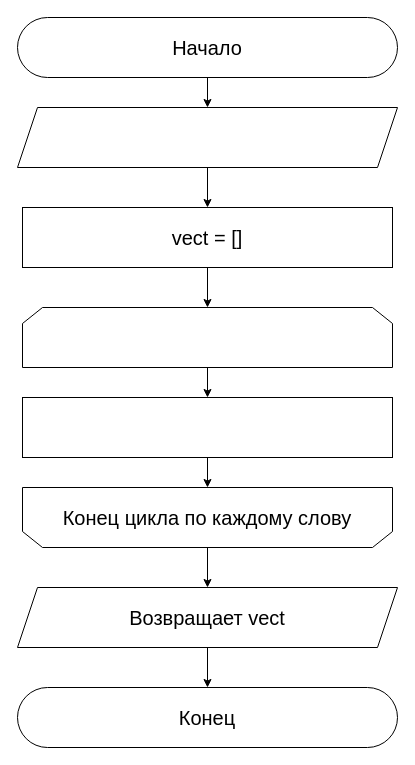
Image size: 415x765. Some labels were removed from this diagram. Here are the shapes that lost their labels. From the top down, the box of each, then its label:
(16, 106, 398, 168): words - массив слов
(22, 306, 392, 368): Цикл по каждому слову из words
(22, 396, 392, 458): vect.append(SVM_model.predict(word))
